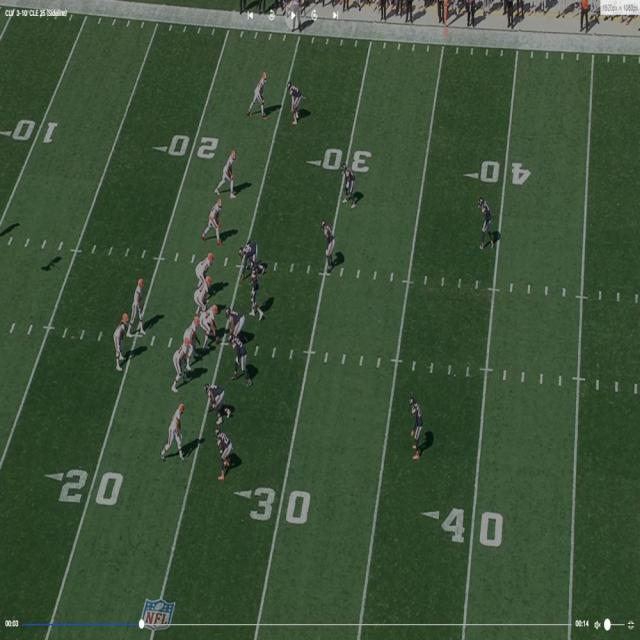center: (203, 303, 221, 344)
db: (411, 395, 426, 459), (215, 429, 232, 479), (478, 196, 494, 249), (341, 165, 359, 204), (288, 83, 302, 125)
lb: (232, 335, 250, 382), (248, 259, 260, 318), (323, 218, 336, 262)
qb: (132, 276, 144, 338)
skill: (166, 405, 186, 460), (219, 149, 239, 196), (203, 197, 223, 241), (112, 314, 126, 372), (250, 69, 266, 115)
